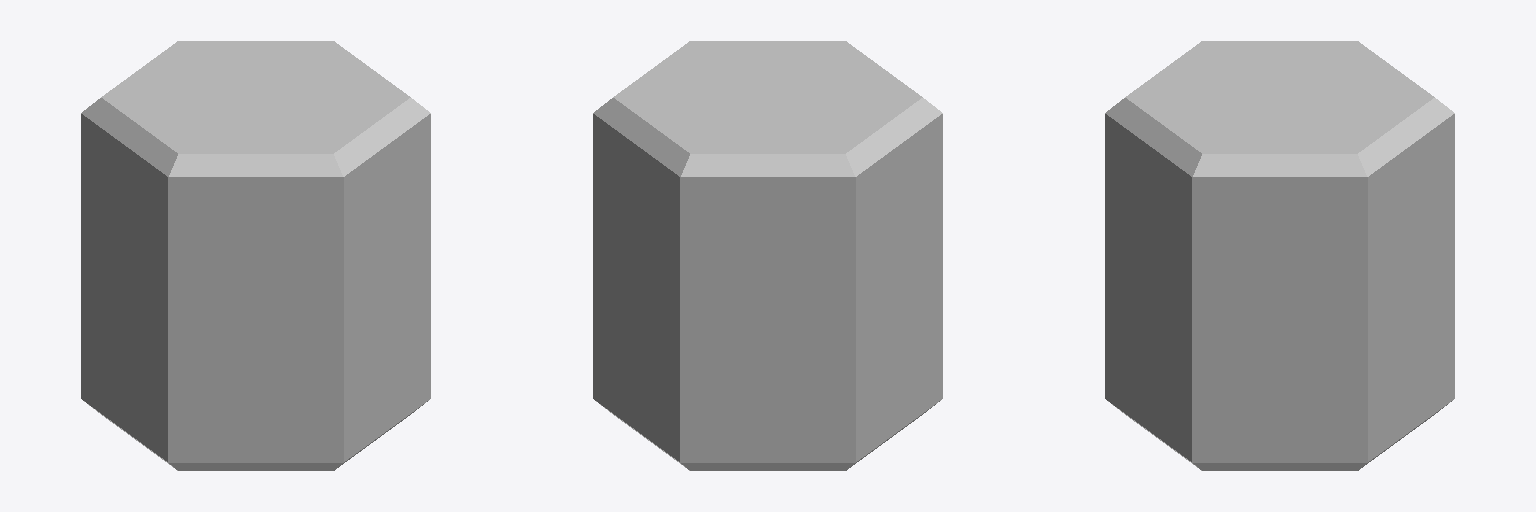
Rendered from hexagon.obj.
The picture shows the model from 3 angles: view 1: azimuth 30°, elevation 25°; view 2: azimuth 150°, elevation 25°; view 3: azimuth 270°, elevation 25°; orthographic projection.
Visible parts, largest first — view 1: Cylinder; view 2: Cylinder; view 3: Cylinder.
Boxes of the visible parts, x1,y1,x2,y2 form: Cylinder: [81, 41, 430, 470]; Cylinder: [593, 41, 942, 470]; Cylinder: [1105, 41, 1454, 470].
Size of the model in its own units: 0.866 by 1 by 1.